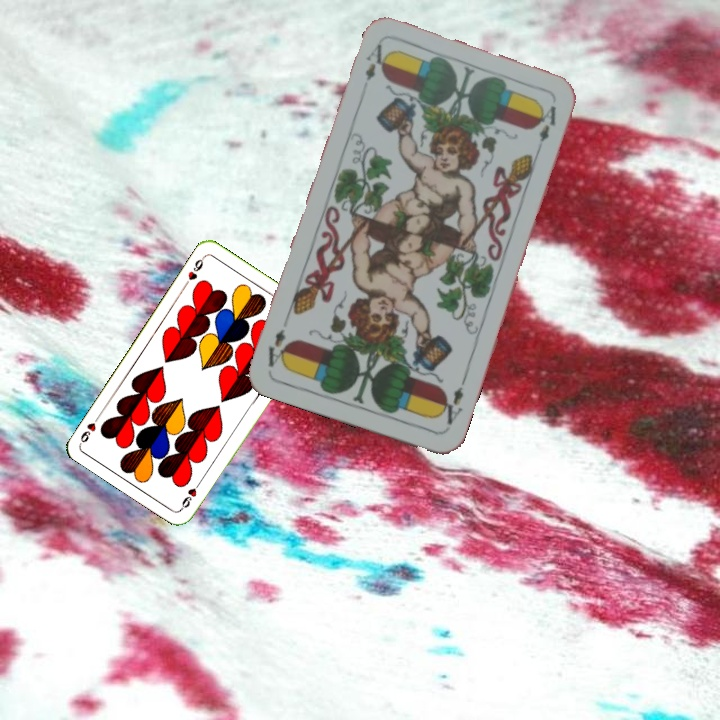EA: (435, 374, 469, 427), (361, 39, 392, 84)
H9: (180, 252, 208, 288), (177, 476, 204, 512)
